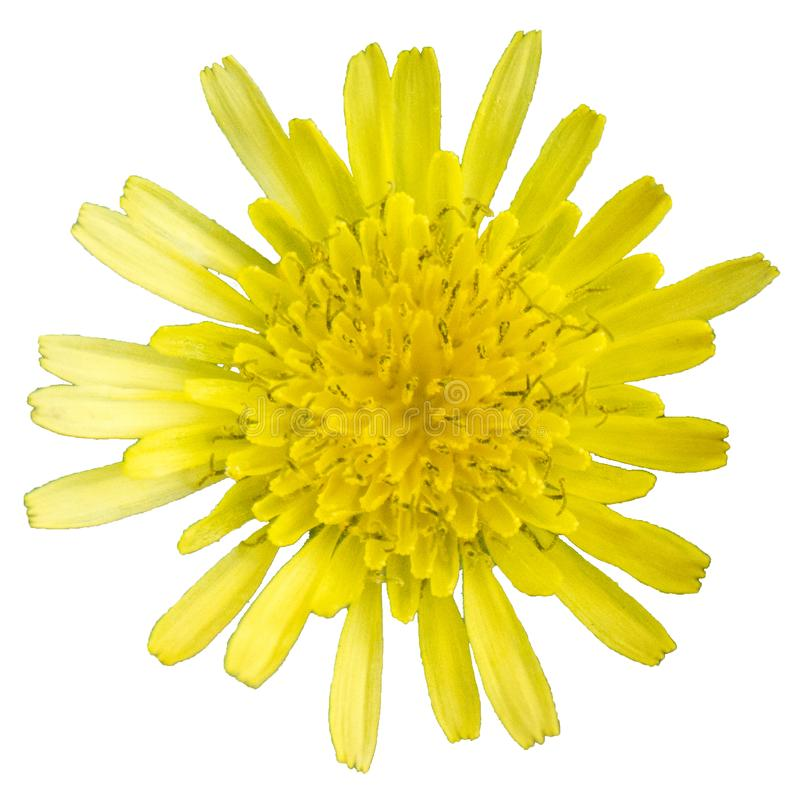dandelion: (109, 65, 727, 754)
